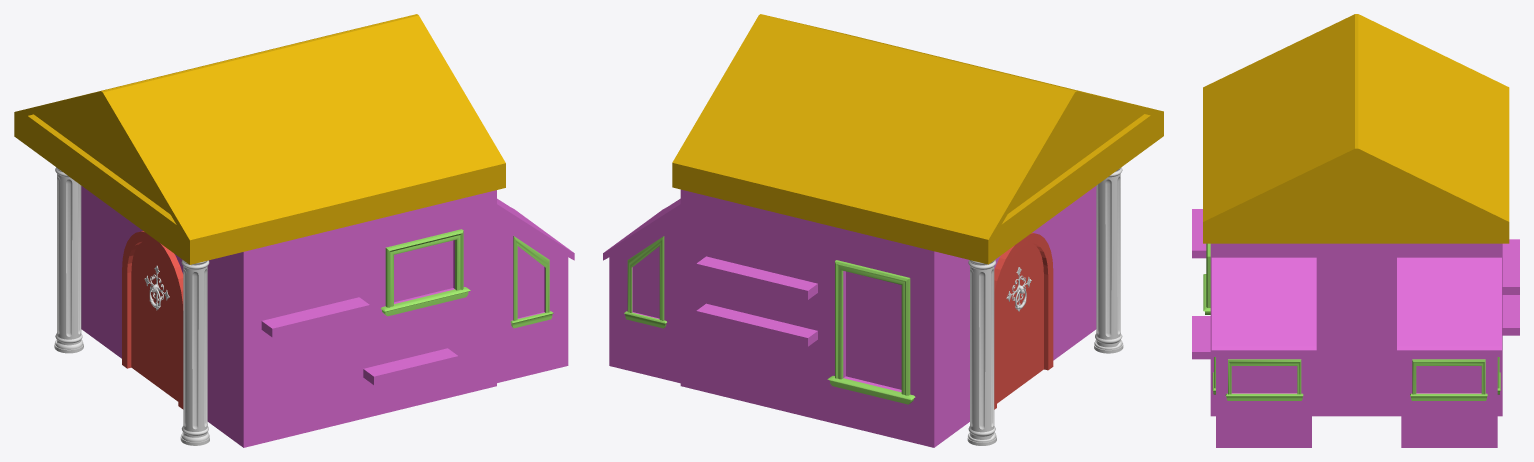
Rendered from casa4.fbx.
3 views of the same model, side by side, from view 1: azimuth 30°, elevation 25°; view 2: azimuth 150°, elevation 25°; view 3: azimuth 270°, elevation 25° (orthographic). The views are drawn at different scales.
Visible parts, largest first — view 1: tejado.003, casa4, puerta_casa4, ColumnaCasa4, ColumnaCasa4.001, ventanas.004; view 2: tejado.003, casa4, puerta_casa4, ventanas.004, ColumnaCasa4.001, ColumnaCasa4; view 3: tejado.003, casa4, ventanas.004.
Part boxes in pixels (x1,y1,x2,y2): tejado.003: [14, 14, 505, 264]; casa4: [81, 186, 574, 447]; puerta_casa4: [122, 231, 183, 409]; ColumnaCasa4: [180, 260, 209, 445]; ColumnaCasa4.001: [54, 167, 83, 353]; ventanas.004: [380, 229, 553, 328]; tejado.003: [672, 14, 1163, 264]; casa4: [603, 186, 1096, 447]; puerta_casa4: [994, 232, 1053, 409]; ventanas.004: [624, 236, 915, 404]; ColumnaCasa4.001: [967, 259, 996, 445]; ColumnaCasa4: [1094, 167, 1123, 353]; tejado.003: [1203, 14, 1509, 243]; casa4: [1192, 209, 1519, 447]; ventanas.004: [1203, 243, 1500, 400].
Size of the model in its own units: 734 by 556 by 613.
